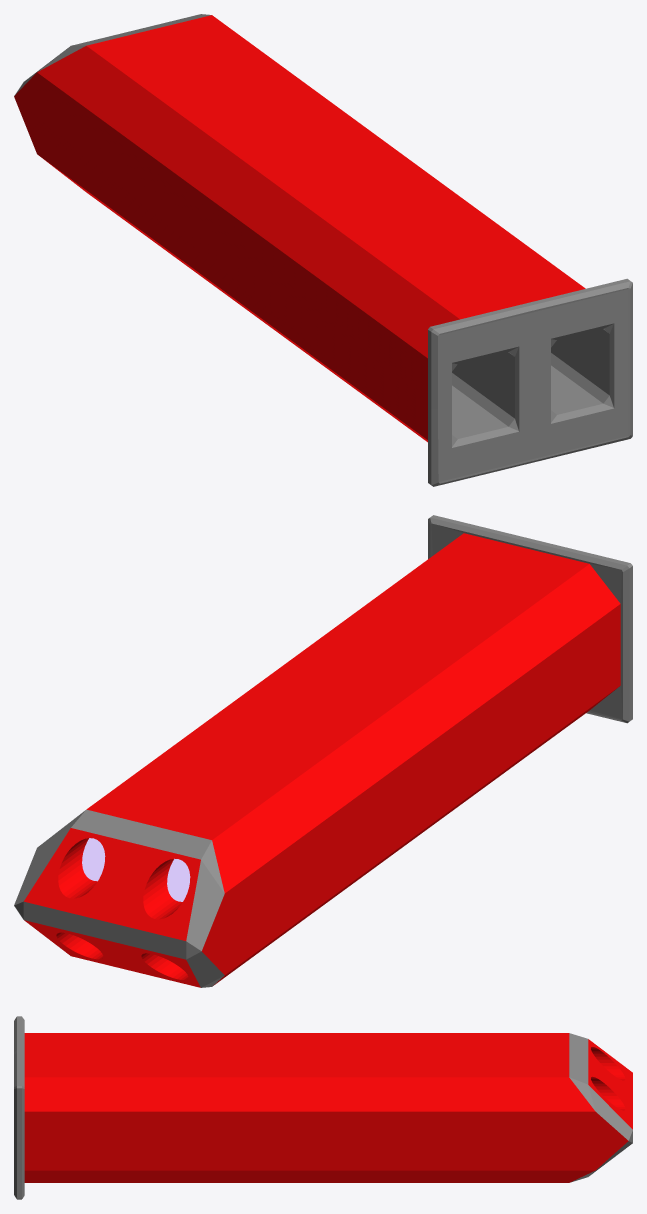
3 renders of one model, top to bottom at view 1: azimuth 30°, elevation 25°; view 2: azimuth 150°, elevation 25°; view 3: azimuth 270°, elevation 25°, orthographic. The views are drawn at different scales.
Parts seen in each view (by area): view 1: Double Luncher; view 2: Double Luncher; view 3: Double Luncher.
Boxes of the visible parts, <box> form: Double Luncher: <box>14,14,632,486</box>; Double Luncher: <box>14,515,632,987</box>; Double Luncher: <box>14,1016,632,1199</box>.
Size of the model in its own units: 6.25 by 4.67 by 23.04.
